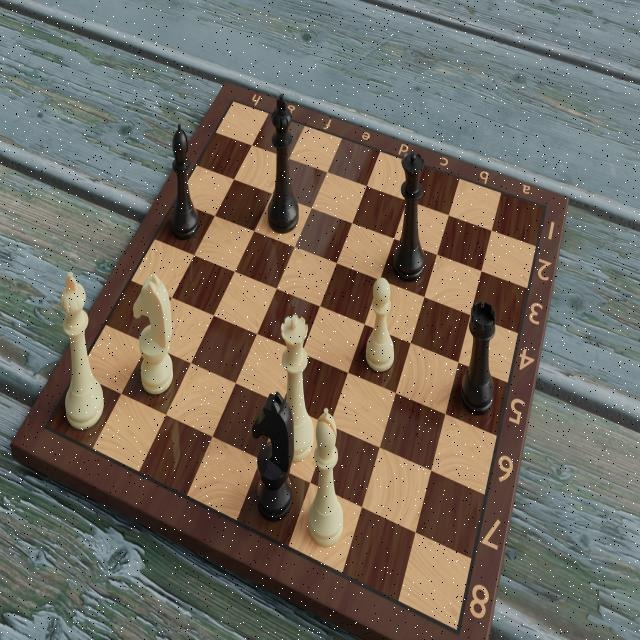black-bishop: (166, 115, 202, 244)
black-king: (262, 91, 302, 236)
black-knight: (249, 375, 297, 524)
black-queen: (390, 139, 426, 284)
black-rook: (458, 296, 498, 424)
white-bishop: (303, 407, 347, 549)
white-king: (54, 265, 106, 435)
white-knight: (130, 269, 177, 398)
white-pawn: (364, 275, 397, 377)
white-queen: (277, 311, 313, 464)
